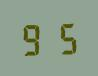five: (49, 19, 78, 54)
nine: (19, 21, 48, 56)
